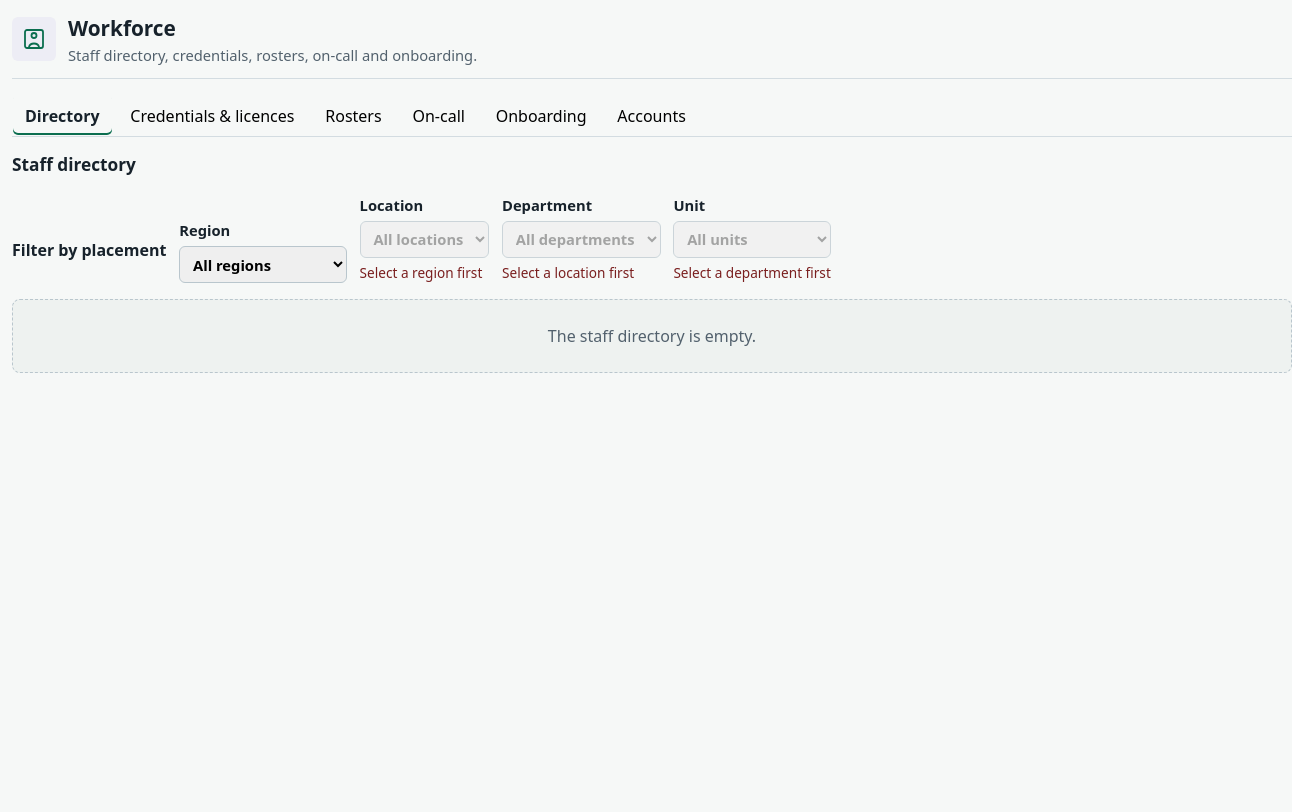
Scenario: WorkforcePage accounts › disables a select whose config source is empty, with the reason
Depth-pass Tabs rollout: accounts live behind the Accounts tab.
Click the tab "Accounts" at x=652, y=116, box 604,95 -> 699,136
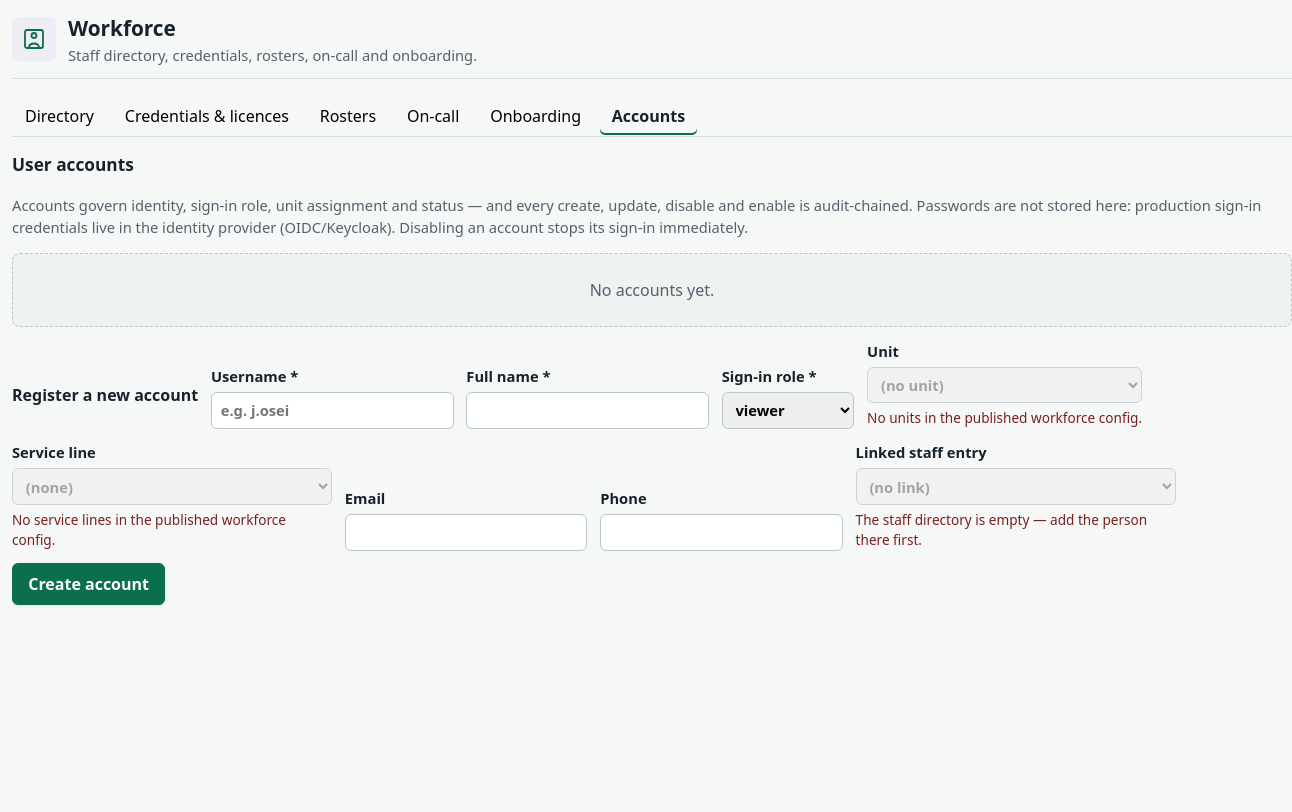
Expected: the dropdown labelled "Unit" is disabled, 867,367 -> 1142,404
Expected: the heading "User accounts" is shown, 12,153 -> 134,176
Expected: the text "No units in the published workforce config." is shown, 867,408 -> 1142,429
